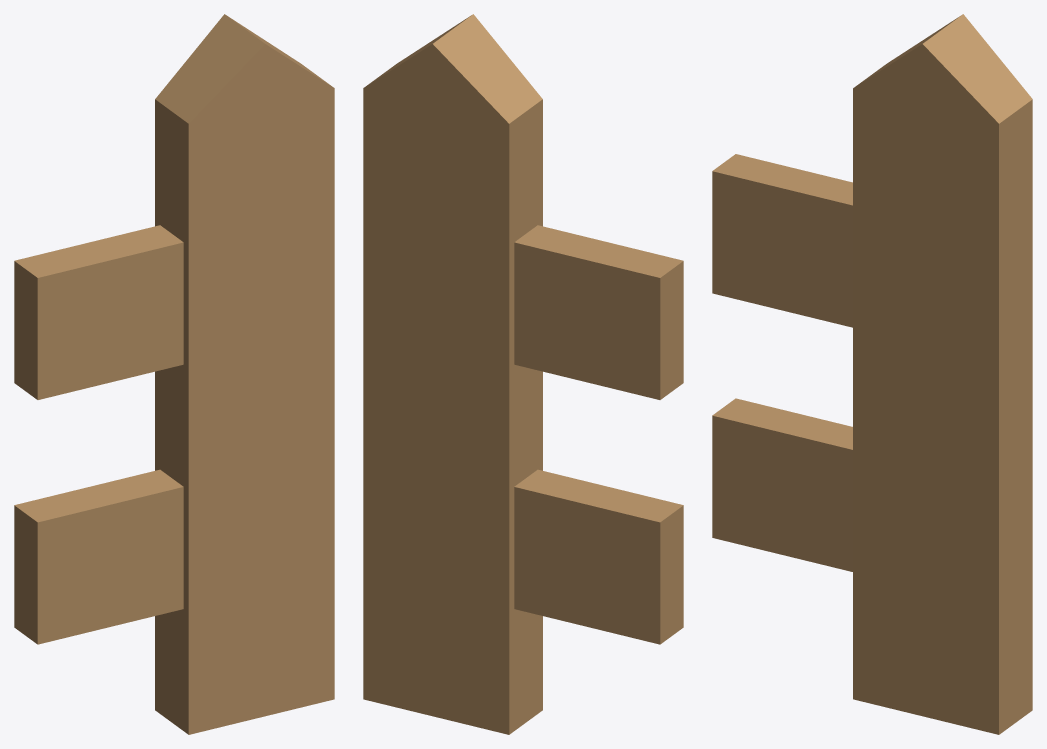
Rendered from fence.gltf.
3 renders of one model, left to right at view 1: azimuth 30°, elevation 25°; view 2: azimuth 150°, elevation 25°; view 3: azimuth 330°, elevation 25°, orthographic.
Parts seen in each view (by area): view 1: Cube; view 2: Cube; view 3: Cube.
Part boxes in pixels (x1=…): Cube: x1=14, y1=14, x2=334, y2=734; Cube: x1=363, y1=14, x2=683, y2=734; Cube: x1=712, y1=14, x2=1032, y2=734.
Size of the model in its own units: 1 by 2.21 by 0.2424.
